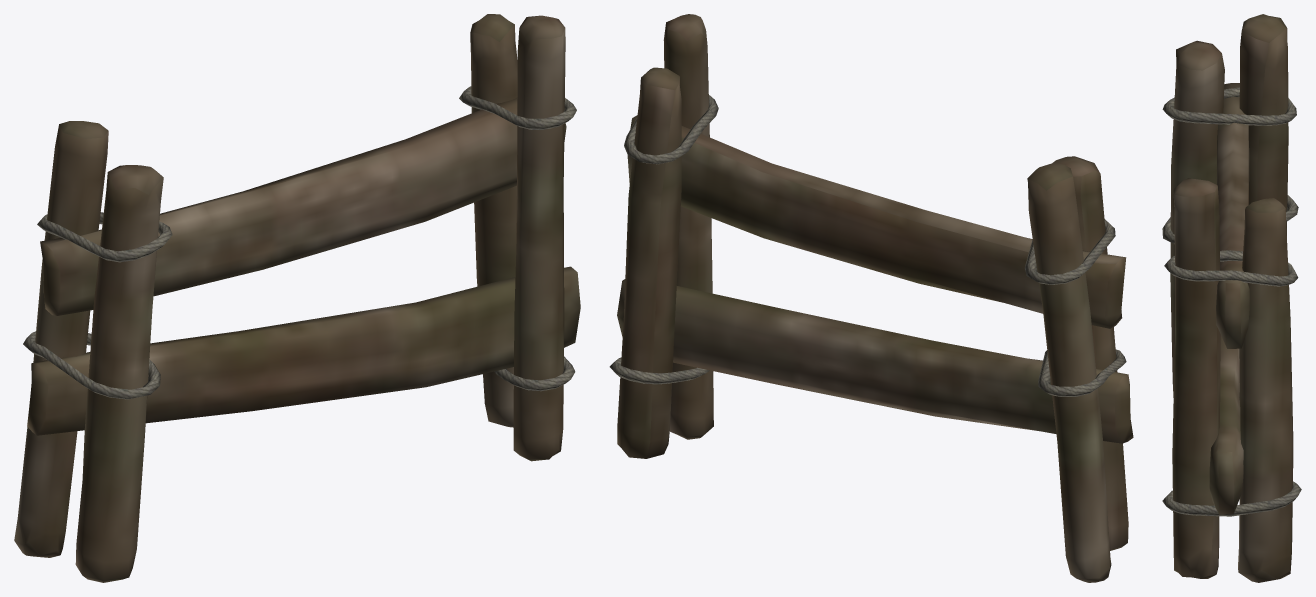
File: t0_fence_crude_wooden_01.glb
3 renders of one model, left to right at view 1: azimuth 30°, elevation 25°; view 2: azimuth 150°, elevation 25°; view 3: azimuth 270°, elevation 25°, orthographic. The views are drawn at different scales.
Visible parts, largest first — view 1: global_props_roughwood_fence_01_b; view 2: global_props_roughwood_fence_01_b; view 3: global_props_roughwood_fence_01_b.
Boxes of the visible parts, x1,y1,x2,y2 form: global_props_roughwood_fence_01_b: (14, 14, 580, 582); global_props_roughwood_fence_01_b: (609, 14, 1133, 582); global_props_roughwood_fence_01_b: (1162, 14, 1301, 582).
Bounding box in the file's own units: 1.98 × 1.57 × 0.4843.
Materials: 2 (2 with a texture image).
